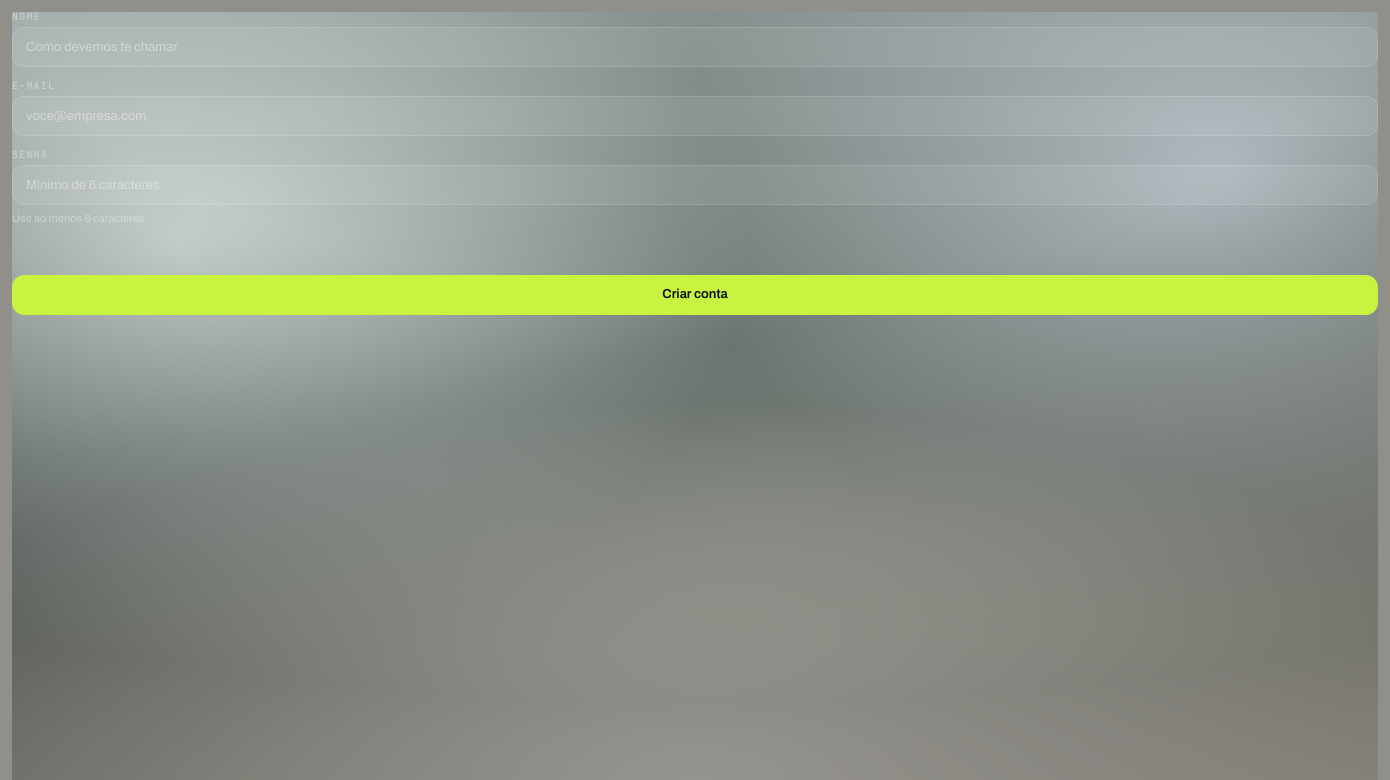
RegisterForm › envia o cadastro para /api/auth/register e mostra a mensagem genérica de sucesso
Type "Maria Souza" into the field labelled "Nome". click: (695, 47)
box: [12,27,1378,67]
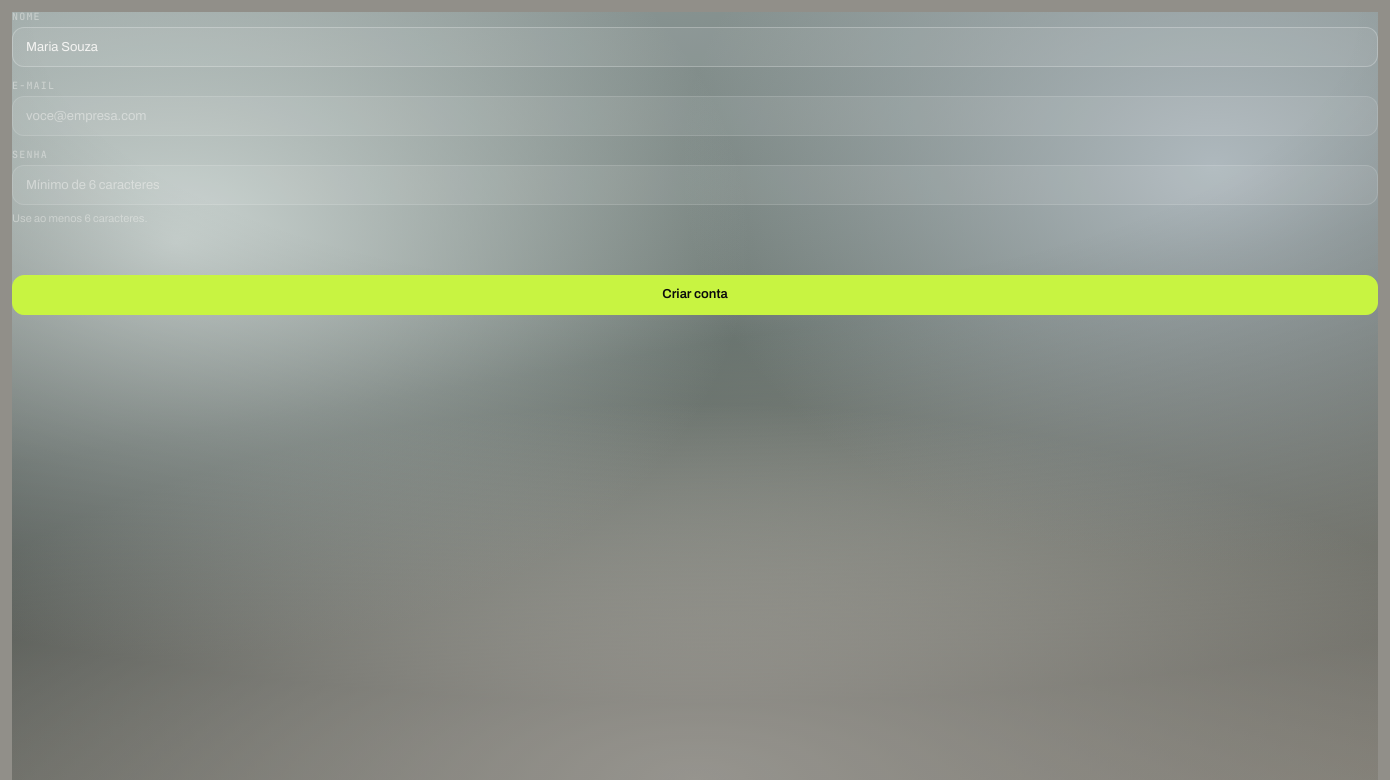
Type "novo@empresa.com" into the field labelled "E-mail". click: (695, 116)
box: [12,96,1378,136]
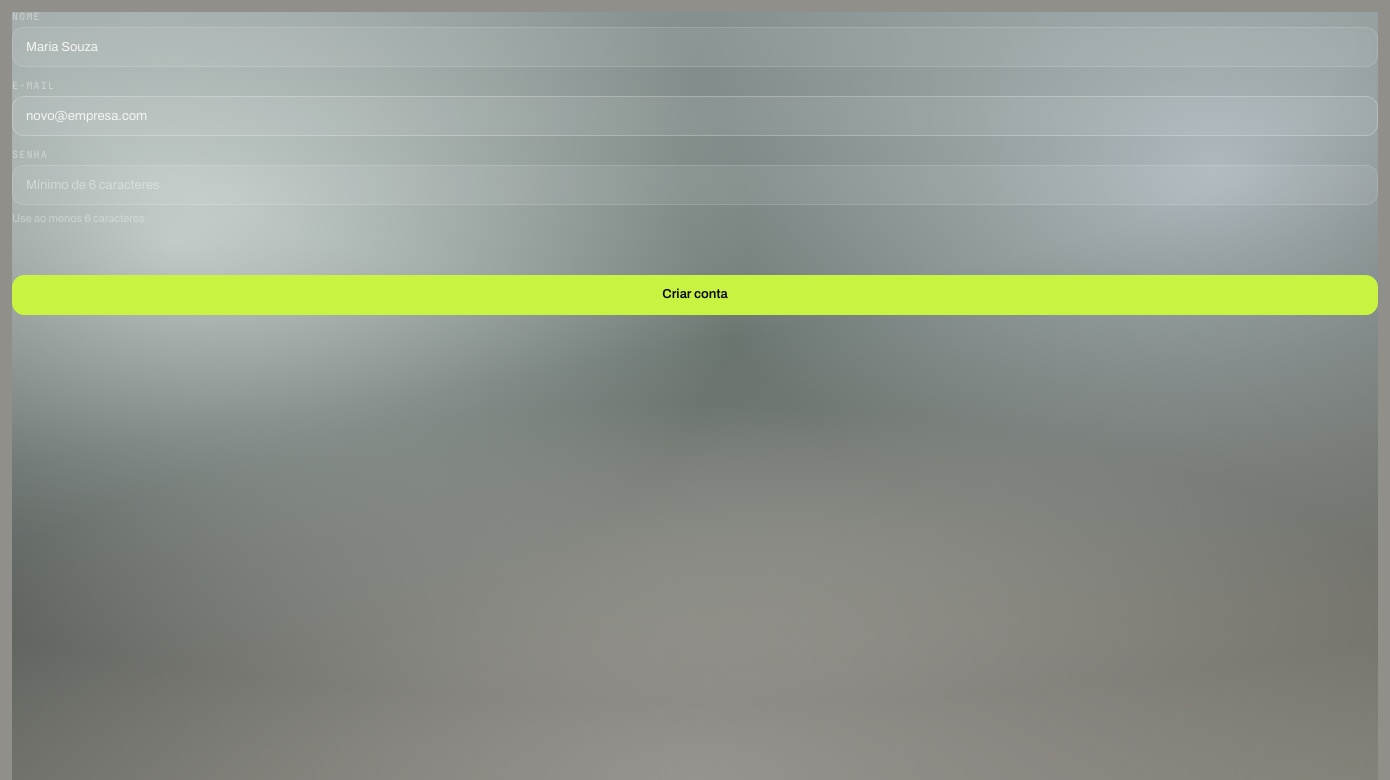
Type "senha-forte-1" into the password field labelled "Senha". click: (695, 185)
box: [12,165,1378,205]
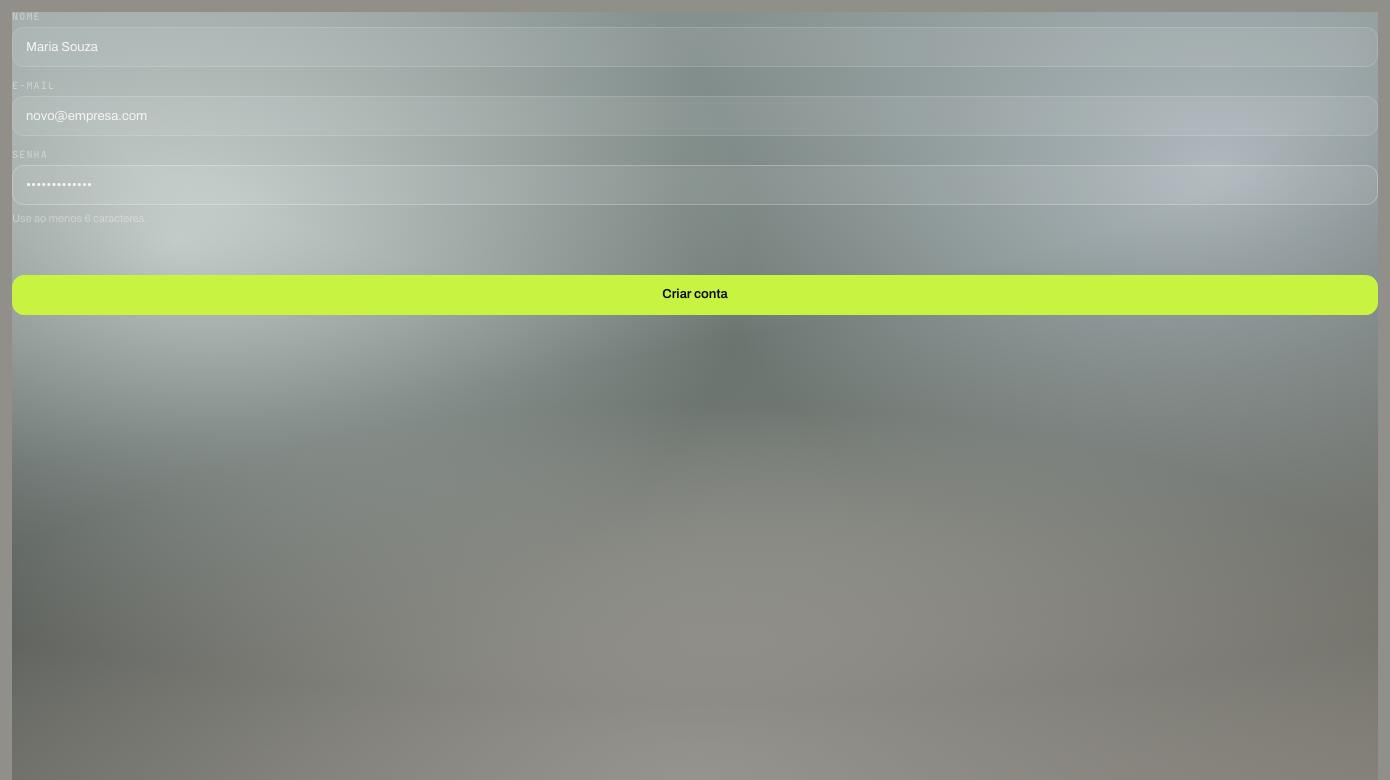
Click the button "Criar conta". click: (695, 294)
box: [12,274,1378,314]
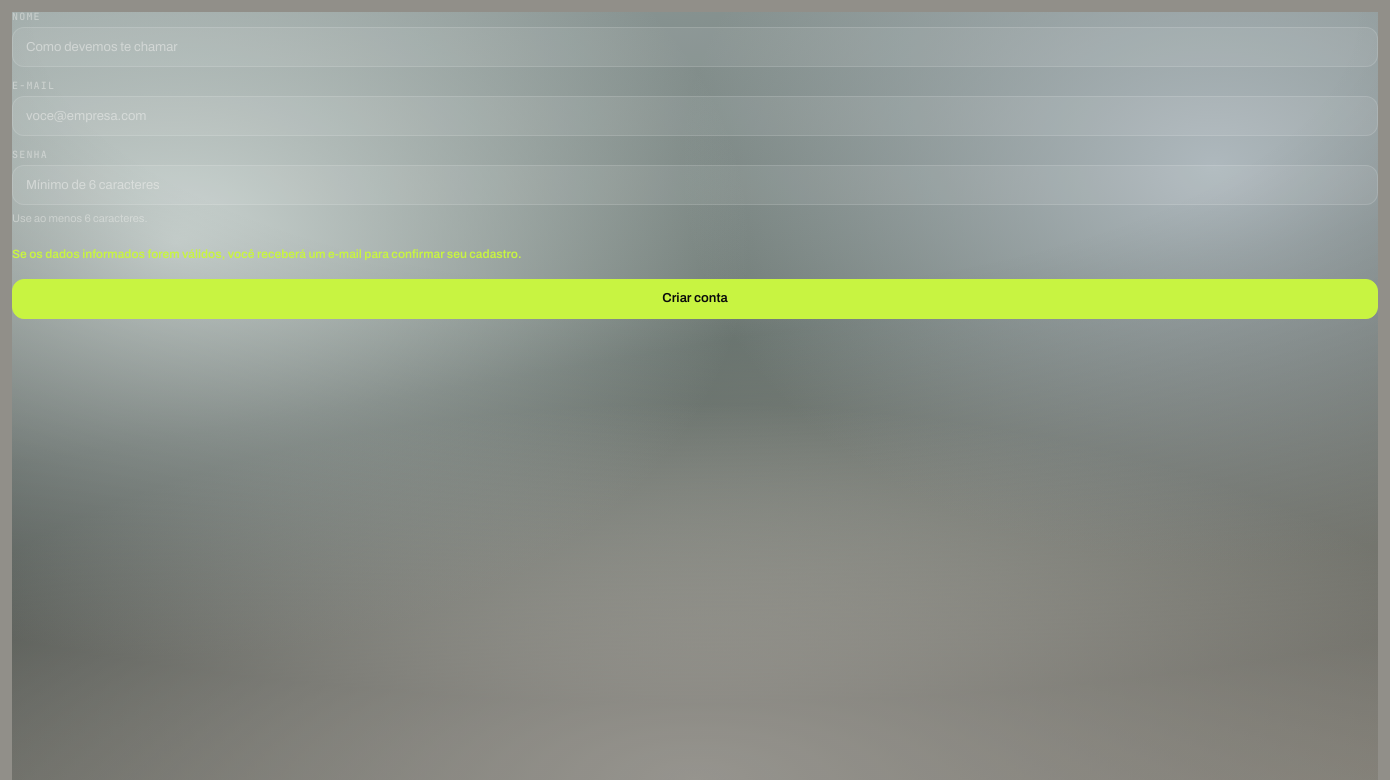
Expected: the text "Se os dados informados forem válidos, você receberá um e-mail para confirmar seu cadastro." is shown, [12,246,522,260]
